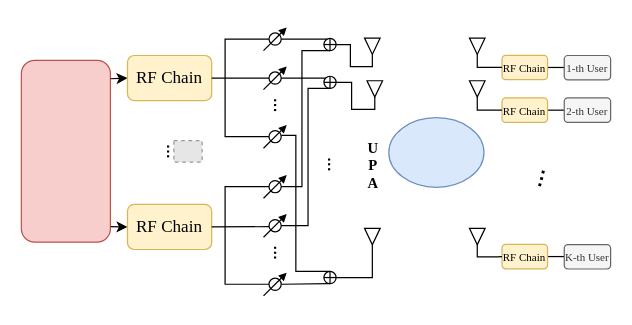
Image size: 632x325. Some labels were removed from this diagram. Grey dashed boxes stand in for pictures. Here are the shapes that lost their labels. From the top down, the centre of each, then its label:
At (x=65, y=150): "Baseband Digital Procode".
At (x=436, y=152): "Channel H".
